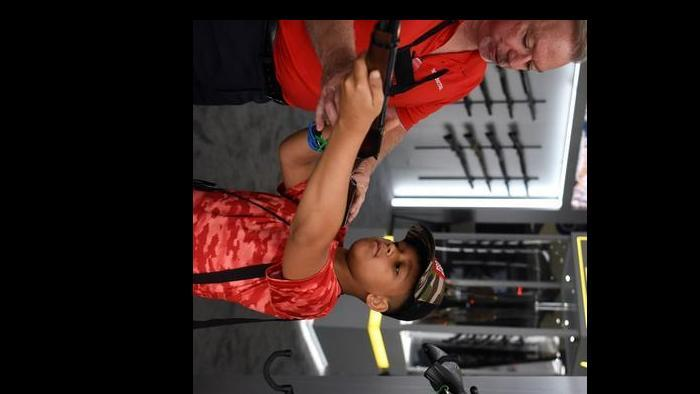larga: (343, 17, 401, 217)
